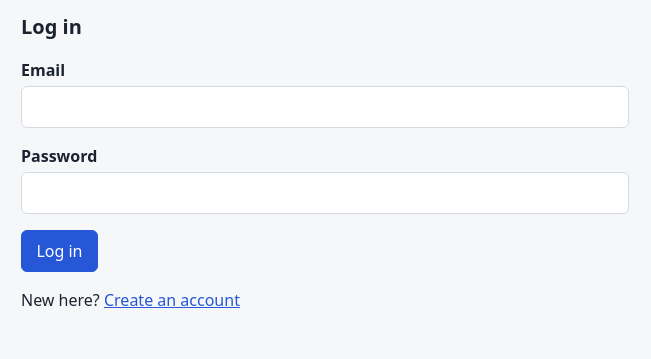
Test: LoginForm › extra: shows a message when the service is unavailable
Type "ada@example.com" into the field labelled "Email" at (325, 107), box [21, 86, 629, 128]
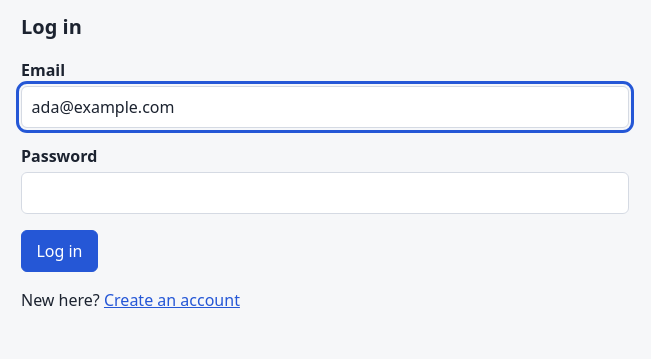
Type "correct horse battery staple" into the password field labelled "Password" at (325, 193), box [21, 172, 629, 214]
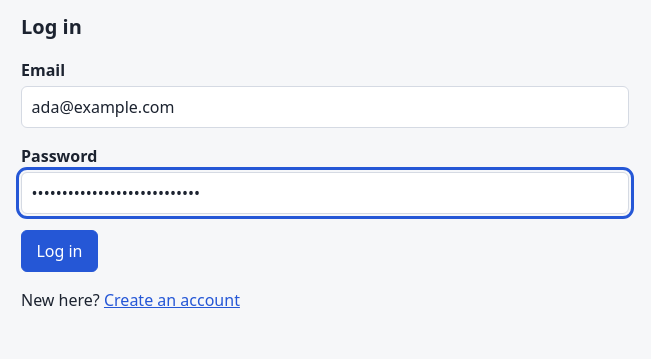
Click the button "Log in" at (59, 251), box [21, 230, 98, 272]
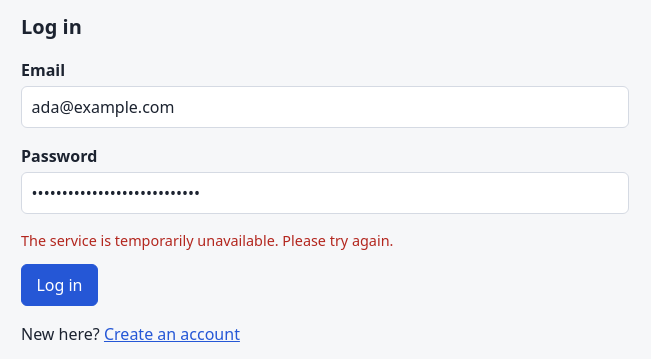
expect the message shows "temporarily unavailable": met, box [21, 231, 393, 250]
